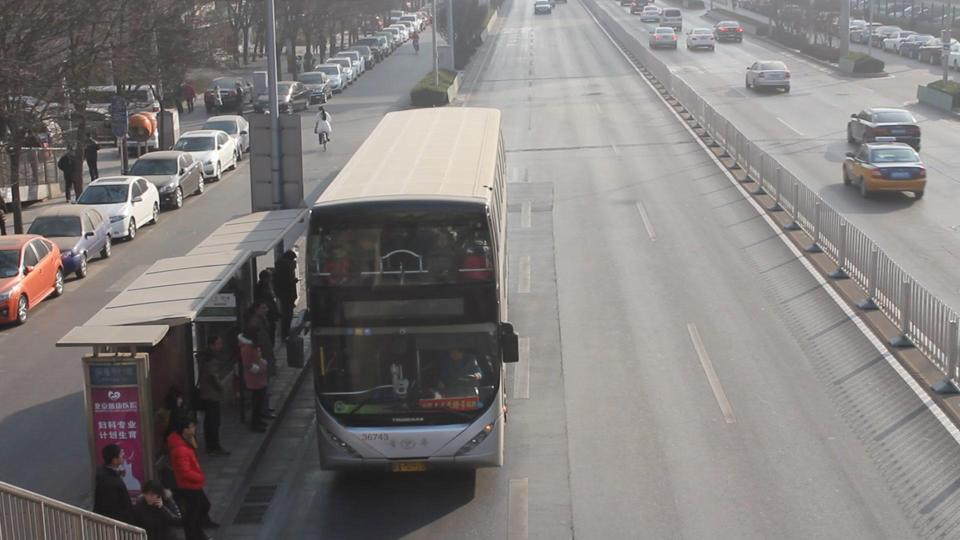Bus: (307, 110, 506, 466)
Car: (843, 137, 927, 202), (847, 107, 921, 156), (745, 60, 793, 97), (713, 21, 745, 47), (648, 25, 677, 52), (685, 29, 717, 53), (641, 1, 662, 25), (534, 1, 551, 16)
Minivan: (658, 8, 684, 34)
